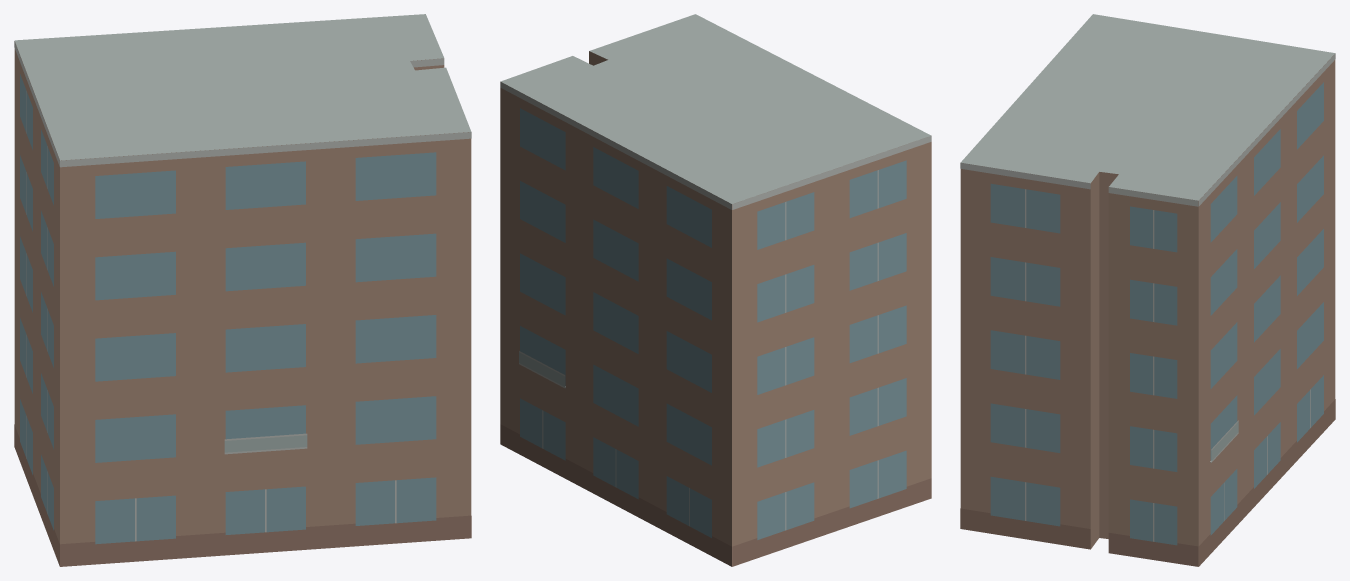
Rendered from survey-upis-33019641.glb.
3 views of the same model, side by side, from view 1: azimuth 30°, elevation 25°; view 2: azimuth 150°, elevation 25°; view 3: azimuth 270°, elevation 25° (orthographic). The views are drawn at different scales.
Parts seen in each view (by area): view 1: survey-upis-33019641.tmp; view 2: survey-upis-33019641.tmp; view 3: survey-upis-33019641.tmp.
Boxes of the visible parts, x1,y1,x2,y2 form: survey-upis-33019641.tmp: (14,14,471,566); survey-upis-33019641.tmp: (500,14,931,566); survey-upis-33019641.tmp: (960,14,1335,566).
Size of the model in its own units: 15.97 by 14.6 by 13.56.
